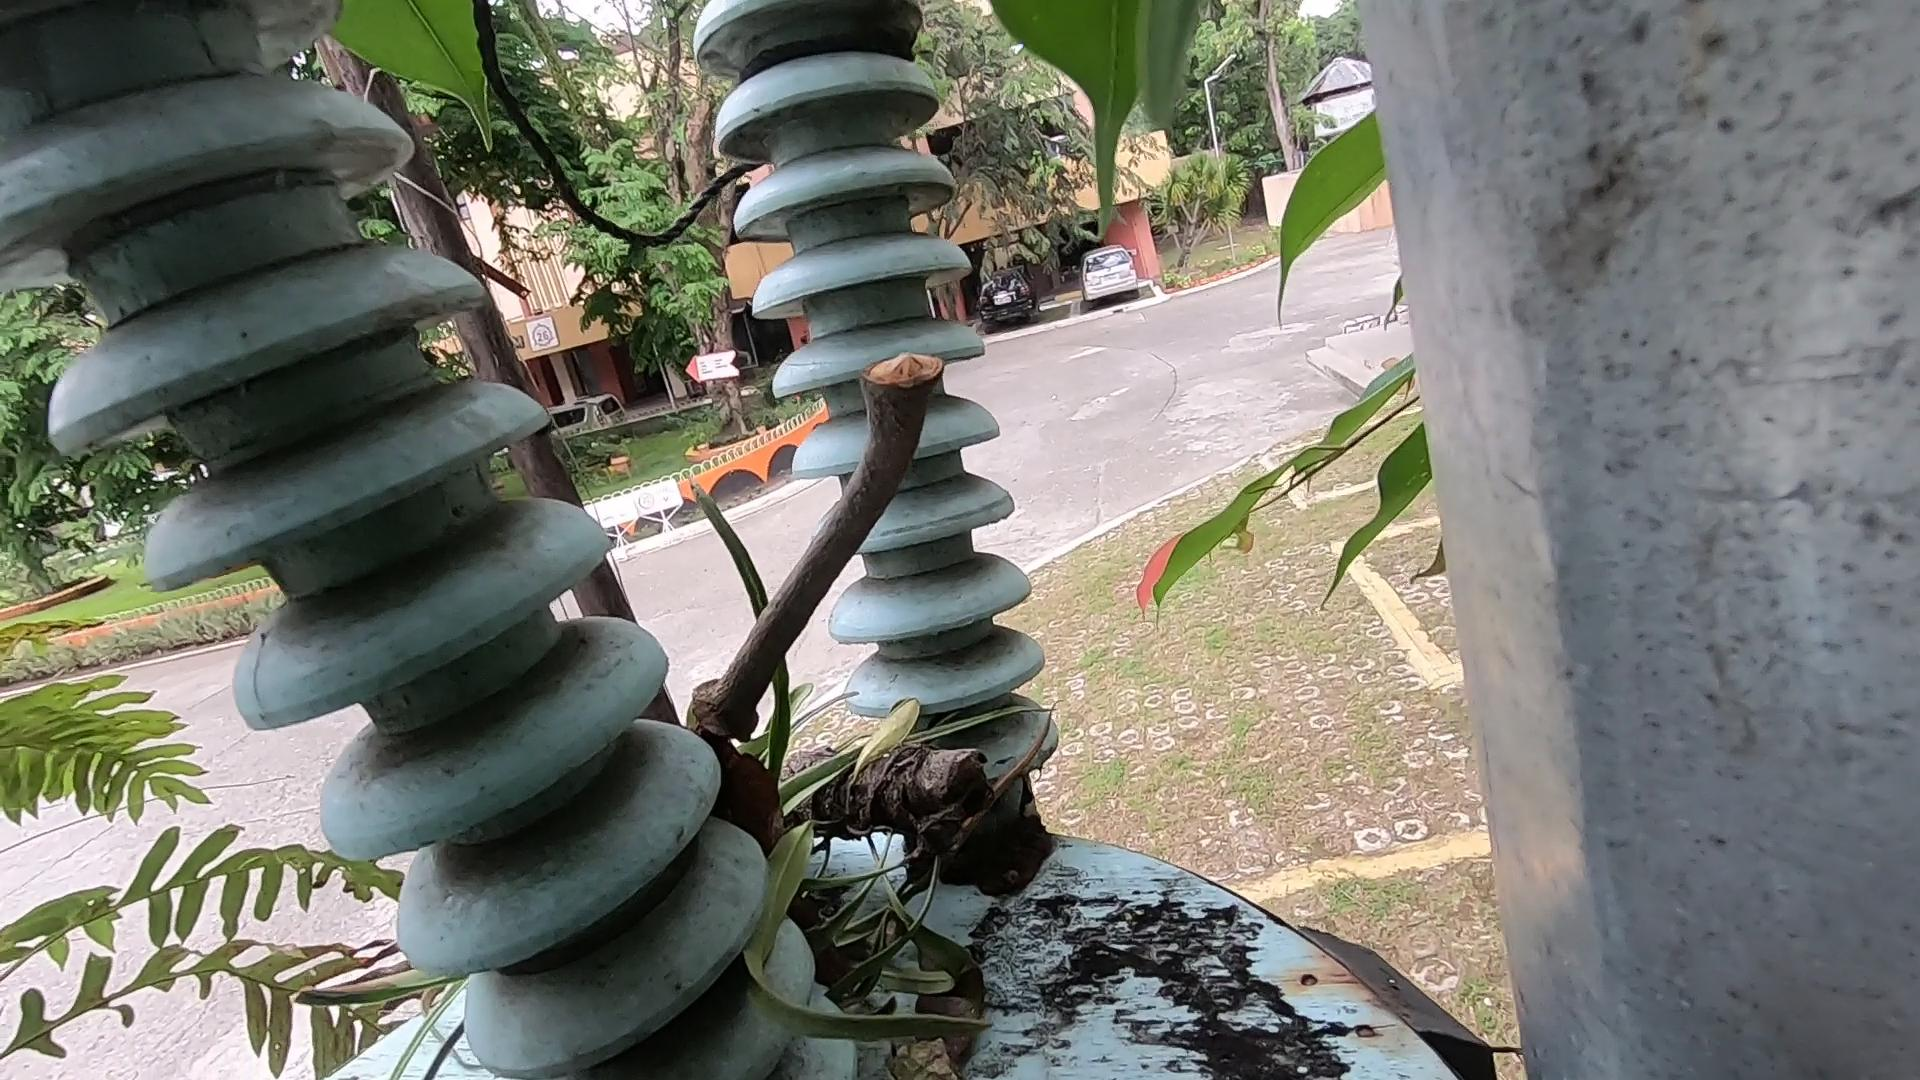branch with leaves: (745, 674, 1025, 1021)
tree branch: (622, 255, 978, 815)
